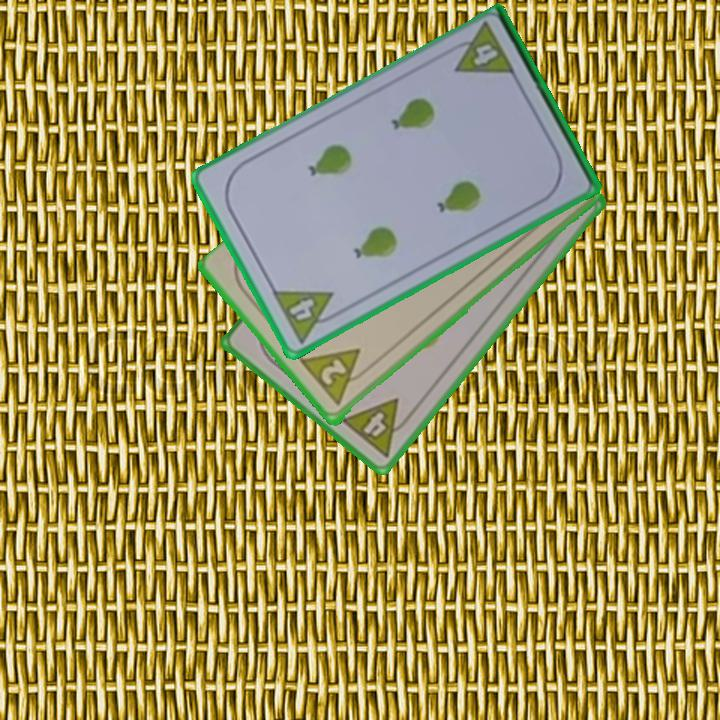2p: (298, 345, 376, 410)
4p: (337, 394, 418, 461), (268, 287, 346, 347), (443, 20, 519, 80)
